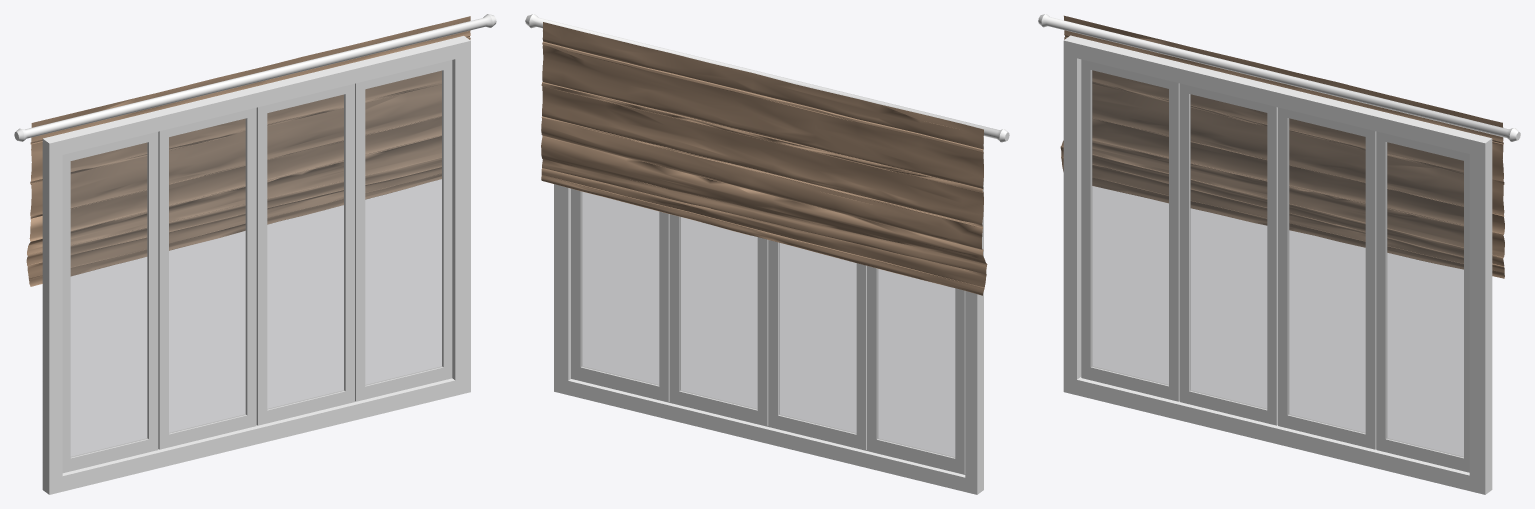
File: Window.FBX
3 views of the same model, side by side, from view 1: azimuth 30°, elevation 25°; view 2: azimuth 150°, elevation 25°; view 3: azimuth 330°, elevation 25° (orthographic).
Parts seen in each view (by area): view 1: window, window 3, window 2, window 4, window 1; view 2: window, window 3, window 4, window 2, window 1; view 3: window, window 2, window 1, window 3, window 4.
Boxes of the visible parts, bbox=[...] form: window: bbox=[14, 14, 496, 494]; window 3: bbox=[256, 83, 354, 425]; window 2: bbox=[158, 107, 256, 449]; window 4: bbox=[355, 60, 452, 401]; window 1: bbox=[62, 132, 158, 473]; window: bbox=[525, 14, 1009, 494]; window 3: bbox=[669, 214, 768, 426]; window 4: bbox=[571, 188, 669, 402]; window 2: bbox=[768, 240, 866, 450]; window 1: bbox=[867, 266, 965, 474]; window: bbox=[1038, 14, 1520, 494]; window 2: bbox=[1179, 83, 1277, 425]; window 1: bbox=[1081, 59, 1179, 401]; window 3: bbox=[1278, 107, 1376, 449]; window 4: bbox=[1376, 131, 1469, 472].
Size of the model in its own units: 2663 by 1964 by 109.
